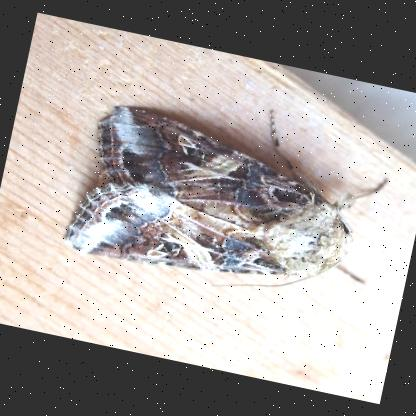Fall Armyworm Moth: (57, 69, 401, 321)
